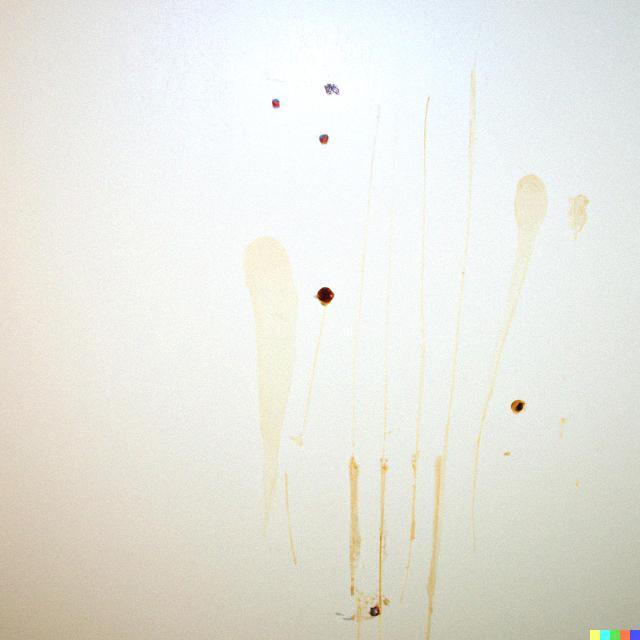blood: (314, 287, 334, 306)
